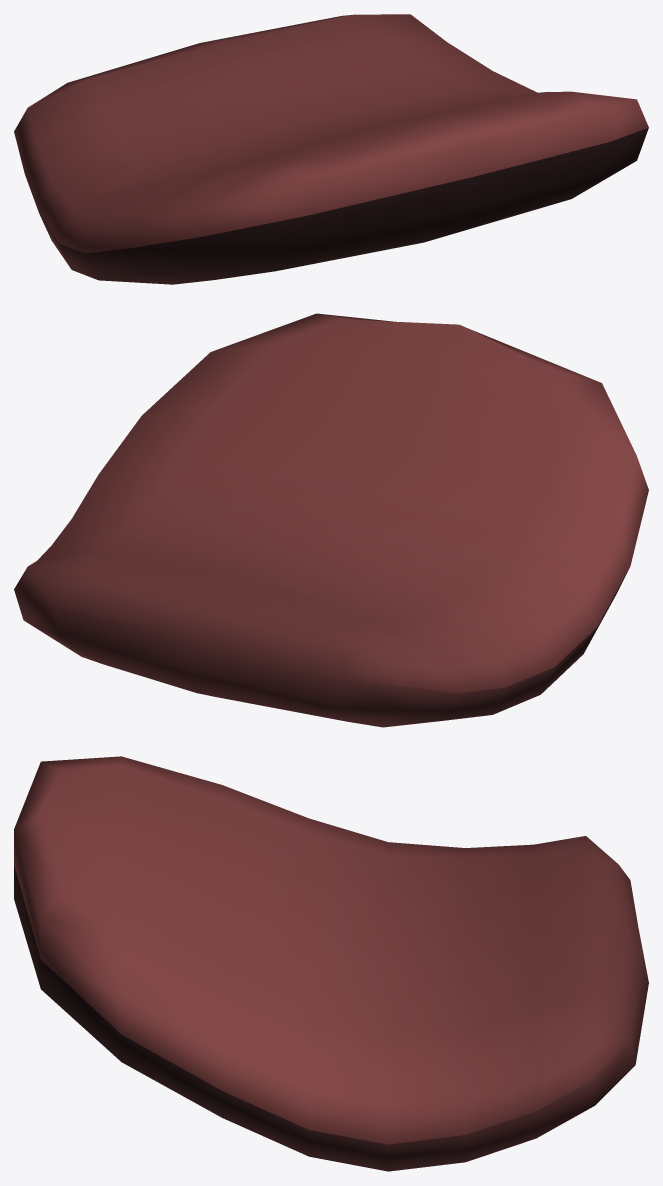
The model's file is common.glb.
3 renders of one model, top to bottom at view 1: azimuth 30°, elevation 25°; view 2: azimuth 150°, elevation 25°; view 3: azimuth 270°, elevation 25°, orthographic. The views are drawn at different scales.
Parts seen in each view (by area): view 1: tongue; view 2: tongue; view 3: tongue.
Boxes of the visible parts, box(x1,y1,x2,y2) form: tongue: box(14, 14, 648, 284); tongue: box(14, 313, 648, 727); tongue: box(14, 756, 648, 1171).
Size of the model in its own units: 0.0783 by 0.0337 by 0.0741.
Materials: 1 (1 with a texture image).
